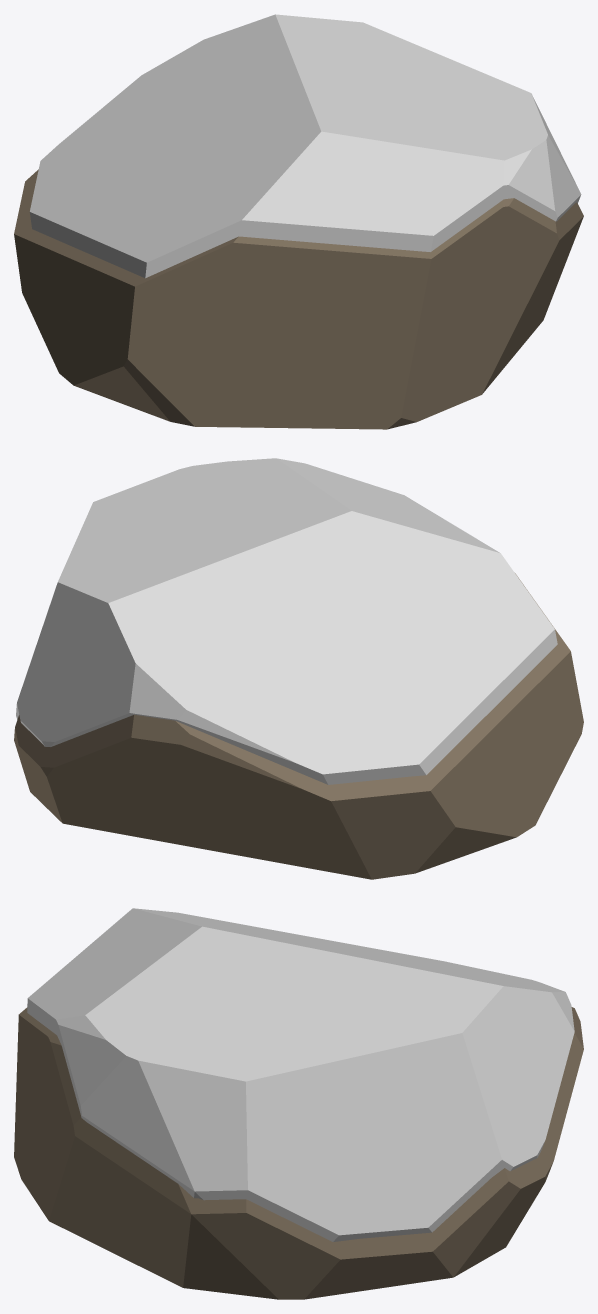
Rendered from Stone_4_snow_brown_mat.fbx.
3 renders of one model, top to bottom at view 1: azimuth 30°, elevation 25°; view 2: azimuth 150°, elevation 25°; view 3: azimuth 270°, elevation 25°, orthographic. The views are drawn at different scales.
Parts seen in each view (by area): view 1: Stone_4_snow_brown_mat; view 2: Stone_4_snow_brown_mat; view 3: Stone_4_snow_brown_mat.
Boxes of the visible parts, x1,y1,x2,y2 form: Stone_4_snow_brown_mat: (14,14,583,429); Stone_4_snow_brown_mat: (14,458,583,879); Stone_4_snow_brown_mat: (14,908,583,1299).
Bounding box in the file's own units: 91.18 × 43.44 × 89.55.
